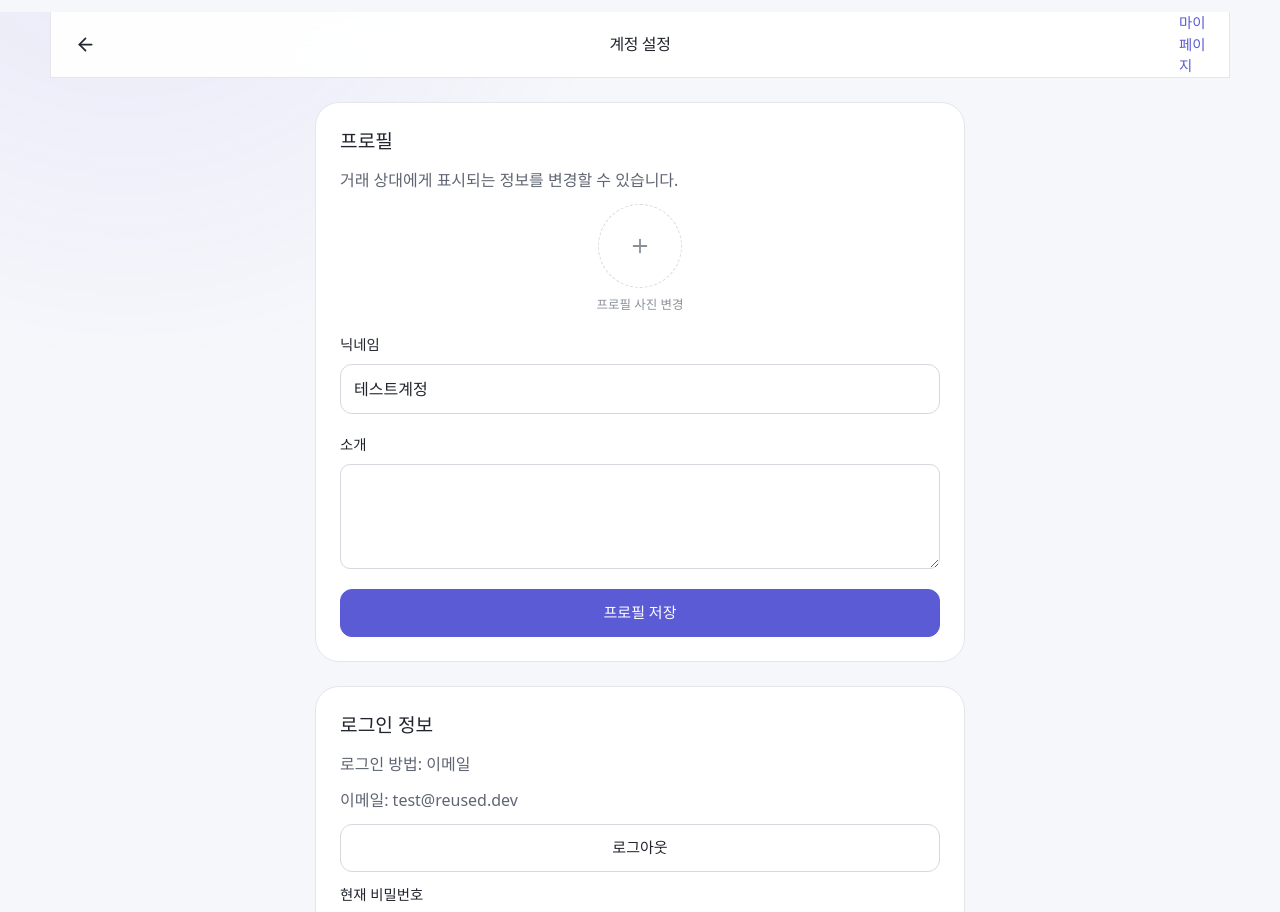
Scenario: 계정 설정 › 닉네임과 소개를 실제 프로필 저장소에 반영한다
Replace the text in the field showing "테스트계정" with "새닉네임": (640, 389) [340,364,940,414]
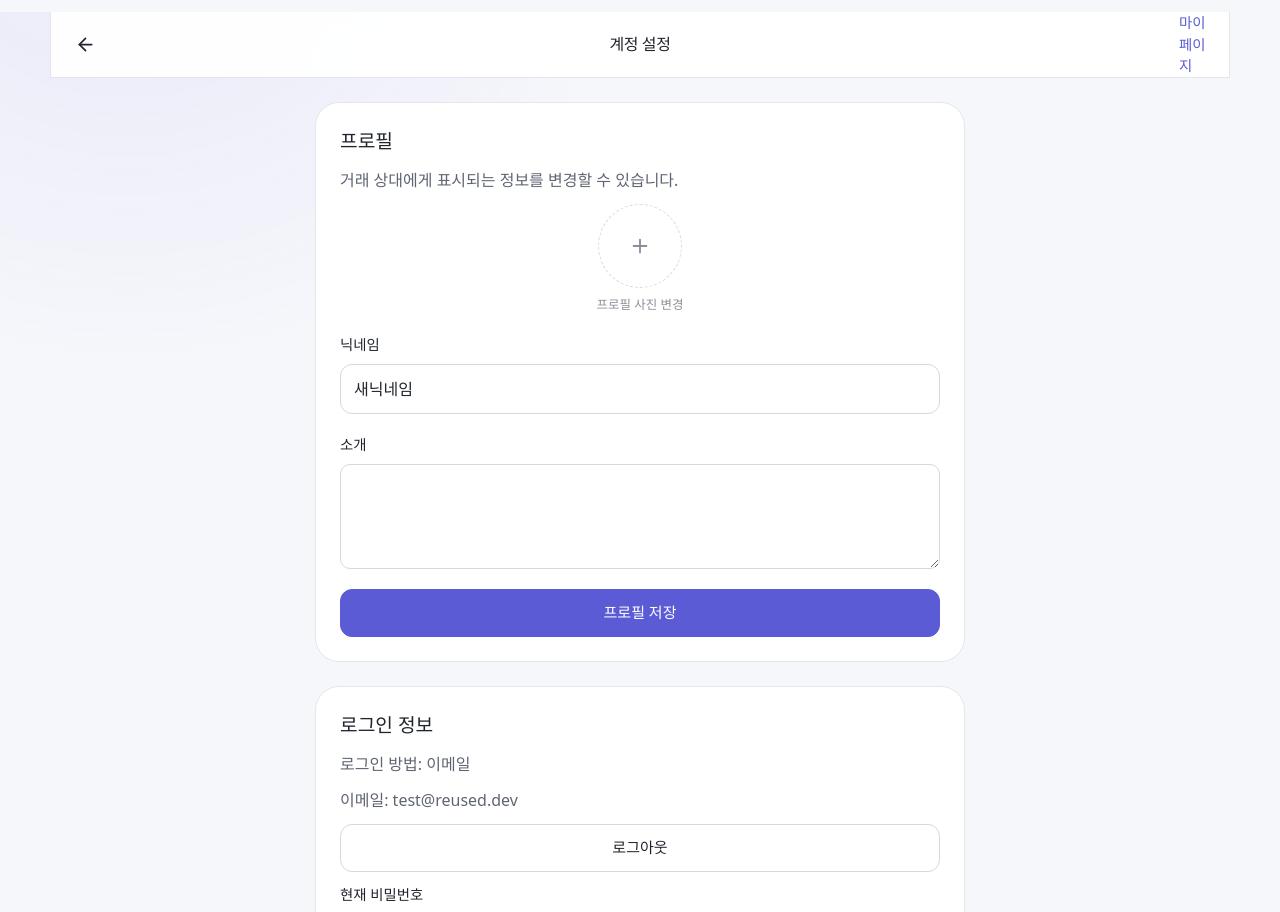
In the text box labelled "소개": (640, 516) [340,464,940,569], type "안녕하세요"
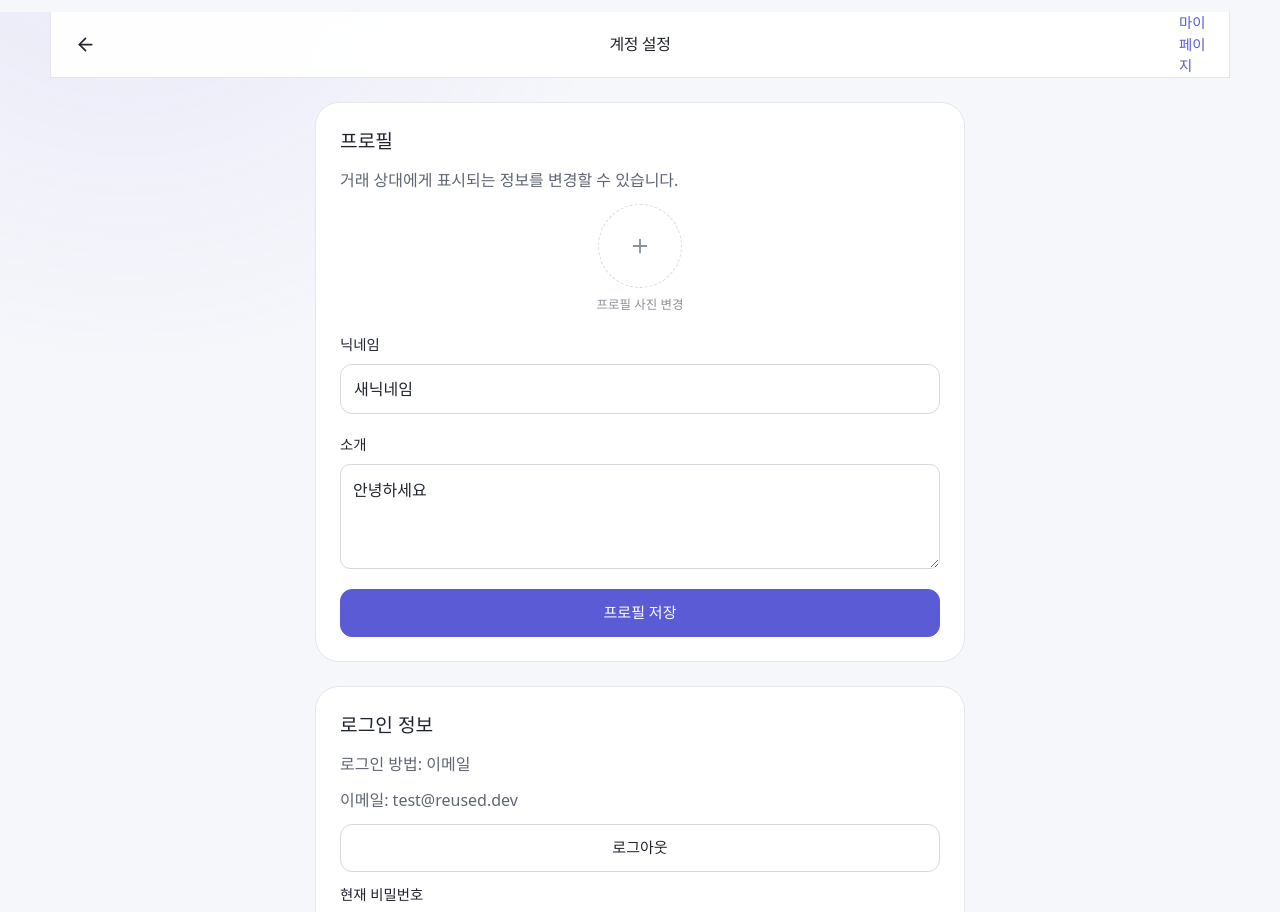
Click the button "프로필 저장": (640, 613) [340,589,940,637]
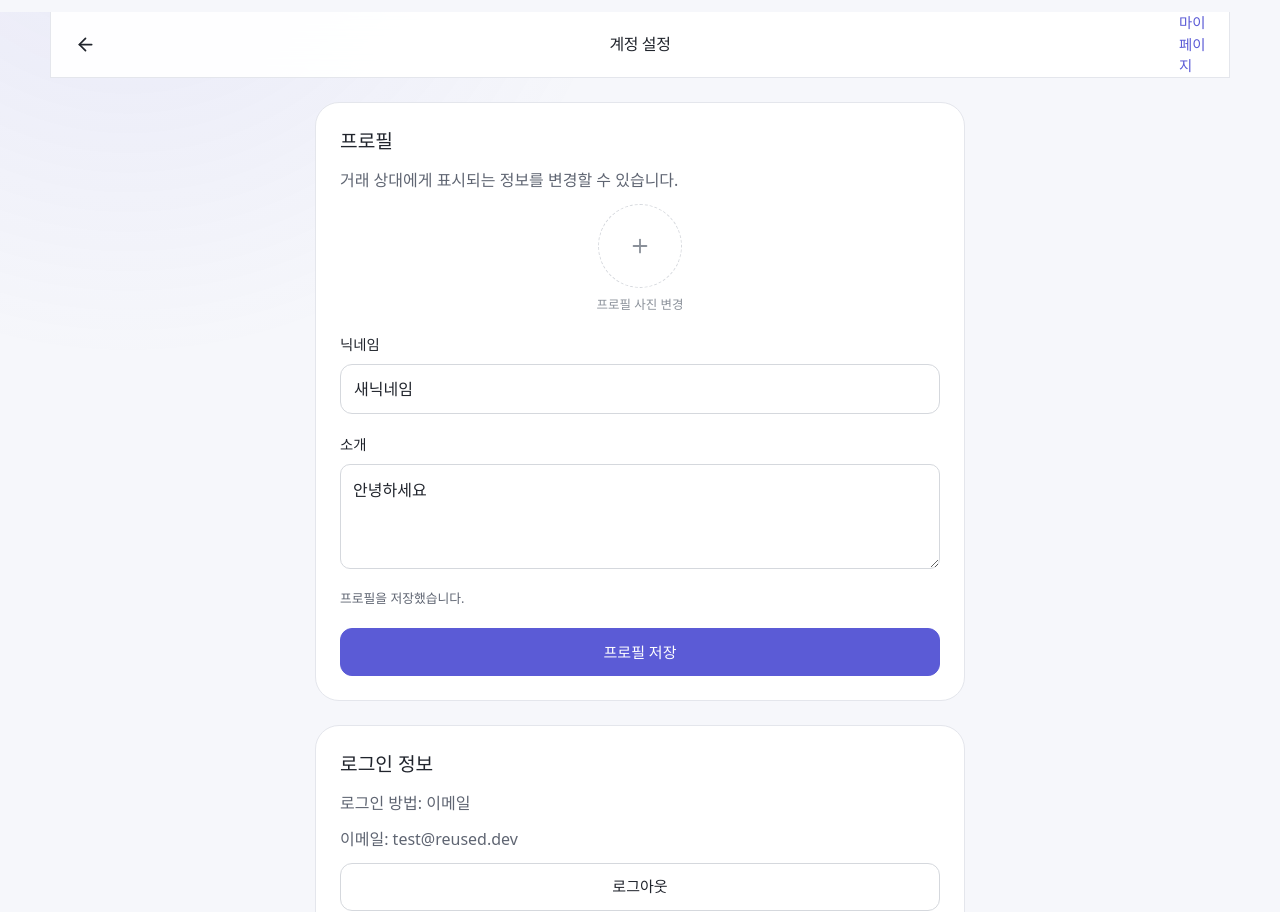
Now the text "프로필을 저장했습니다." is shown, box [340,589,464,607]
